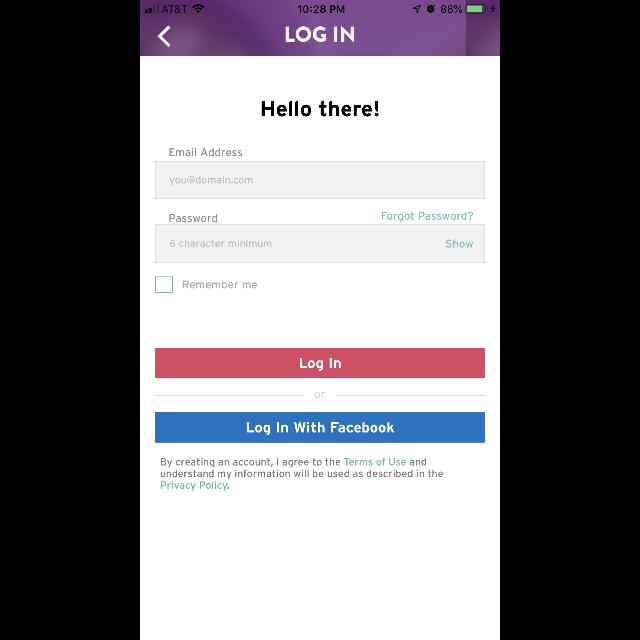checkbox: (156, 276, 172, 292)
icon: (157, 27, 170, 48)
input: (156, 225, 484, 263), (156, 161, 484, 199)
text: (161, 458, 443, 490), (262, 101, 378, 117), (286, 26, 354, 42), (382, 212, 472, 222), (170, 239, 272, 247), (170, 177, 252, 186), (183, 281, 257, 289), (170, 148, 242, 156), (169, 214, 217, 222), (446, 240, 472, 248), (314, 392, 326, 398)
textbutton: (156, 348, 484, 378), (156, 413, 484, 443)
uppertaskbar: (140, 0, 500, 14)
